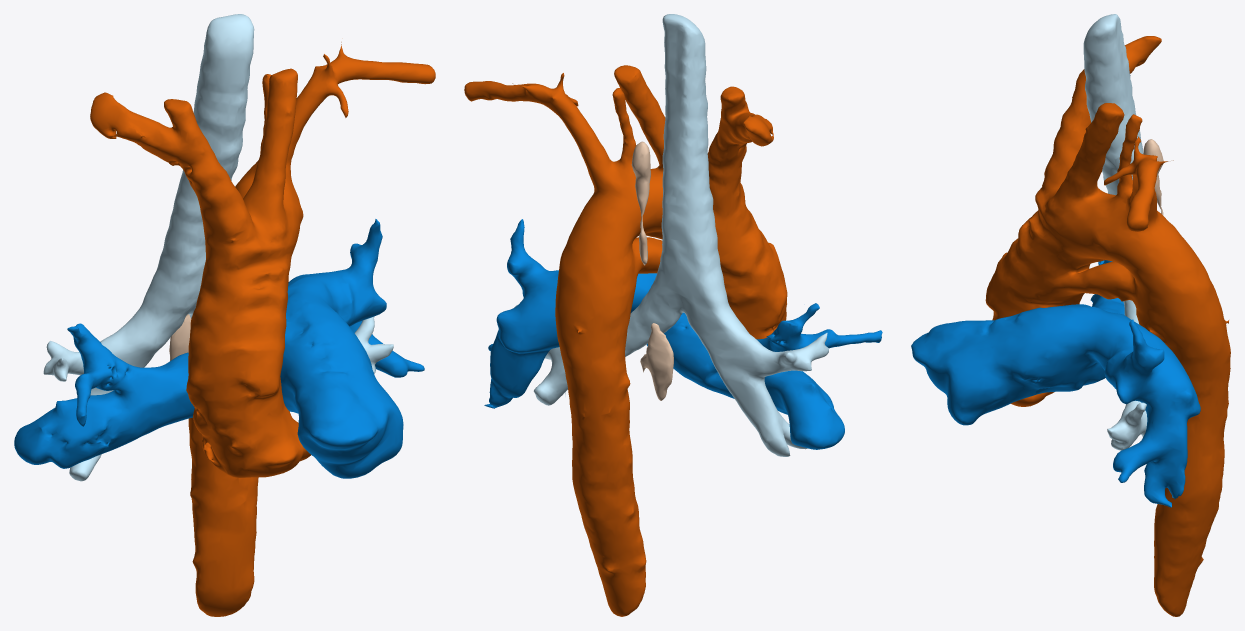
Rendered from Fifth aortic arch.gltf.
The picture shows the model from 3 angles, left to right: view 1: azimuth 30°, elevation 25°; view 2: azimuth 150°, elevation 25°; view 3: azimuth 270°, elevation 25°; orthographic projection. The views are drawn at different scales.
Parts seen in each view (by area): view 1: aorta, pa, trachea, esophagus; view 2: aorta, trachea, pa, esophagus; view 3: aorta, pa, trachea, esophagus.
Part boxes in pixels (x1,y1,x2,y2): aorta: (90, 42, 435, 616); pa: (14, 219, 424, 478); trachea: (43, 14, 393, 481); esophagus: (169, 314, 191, 360); aorta: (464, 65, 787, 616); trachea: (514, 14, 828, 456); pa: (484, 219, 882, 449); esophagus: (631, 141, 673, 400); aorta: (985, 36, 1230, 616); pa: (911, 260, 1200, 507); trachea: (1083, 14, 1147, 450); esophagus: (1143, 139, 1163, 215).
Size of the model in its own units: 107 by 158 by 78.39.
